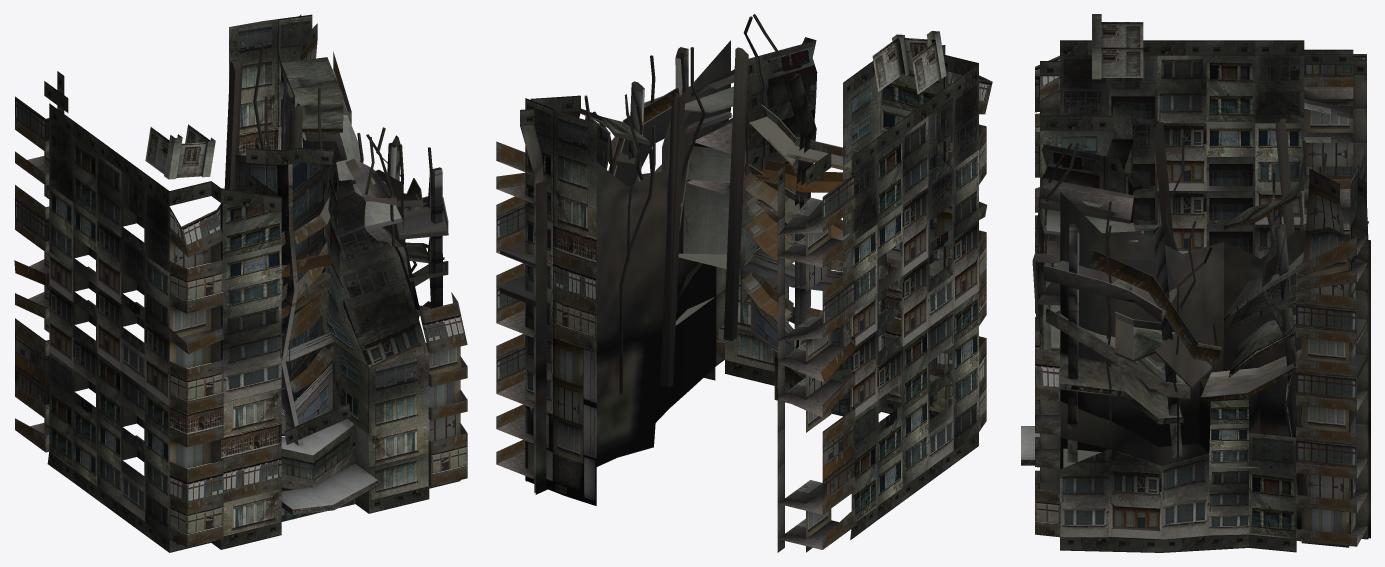
The model's file is Ruin_Apartment_04.fbx.
3 views of the same model, side by side, from view 1: azimuth 30°, elevation 25°; view 2: azimuth 150°, elevation 25°; view 3: azimuth 270°, elevation 25° (orthographic). The views are drawn at different scales.
Parts seen in each view (by area): view 1: Ruin_Apartment_04_Part0_project_building03c; view 2: Ruin_Apartment_04_Part0_project_building03c; view 3: Ruin_Apartment_04_Part0_project_building03c.
Part boxes in pixels (bbox=[...]): Ruin_Apartment_04_Part0_project_building03c: bbox=[14, 14, 467, 552]; Ruin_Apartment_04_Part0_project_building03c: bbox=[496, 14, 992, 552]; Ruin_Apartment_04_Part0_project_building03c: bbox=[1021, 14, 1370, 552].
Bounding box in the file's own units: 1.58 × 1.82 × 1.43.
